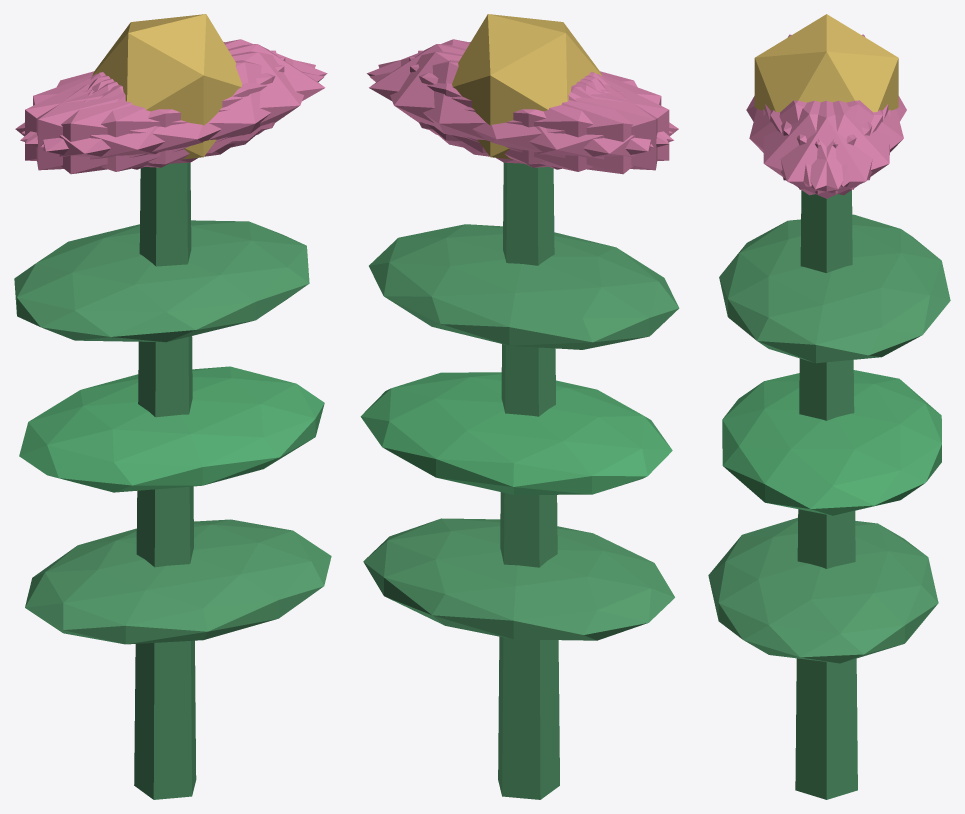
The model's file is alternanthera-halimifolia.glb.
3 renders of one model, left to right at view 1: azimuth 30°, elevation 25°; view 2: azimuth 150°, elevation 25°; view 3: azimuth 270°, elevation 25°, orthographic.
Parts seen in each view (by area): view 1: leaf0, leaf2, leaf1, stem, center, petal1, petal6, petal2, petal5, petal7, petal0, petal4 (+2 smaller); view 2: leaf2, leaf1, leaf0, stem, center, petal8, petal3, petal7, petal4, petal2, petal0, petal5 (+2 smaller); view 3: leaf2, leaf0, leaf1, stem, center, petal0, petal5, petal4, petal1, petal8.
Part boxes in pixels (bbox=[...]): leaf0: bbox=[25, 519, 331, 644]; leaf2: bbox=[14, 220, 309, 342]; leaf1: bbox=[19, 366, 324, 492]; stem: bbox=[134, 162, 196, 799]; center: bbox=[92, 14, 242, 159]; petal1: bbox=[20, 60, 324, 171]; petal6: bbox=[15, 73, 235, 174]; petal2: bbox=[36, 50, 276, 170]; petal5: bbox=[41, 51, 315, 164]; petal7: bbox=[25, 57, 285, 167]; petal0: bbox=[92, 44, 325, 153]; petal4: bbox=[21, 39, 327, 144]; leaf2: bbox=[369, 224, 679, 349]; leaf1: bbox=[360, 372, 672, 494]; leaf0: bbox=[363, 518, 674, 640]; stem: bbox=[498, 162, 559, 799]; center: bbox=[452, 14, 601, 159]; petal8: bbox=[369, 60, 673, 171]; petal3: bbox=[458, 73, 678, 174]; petal7: bbox=[418, 50, 657, 170]; petal4: bbox=[378, 51, 653, 164]; petal2: bbox=[409, 57, 669, 167]; petal0: bbox=[369, 44, 602, 153]; petal5: bbox=[367, 39, 672, 144]; leaf2: bbox=[719, 214, 950, 363]; leaf0: bbox=[708, 517, 938, 663]; leaf1: bbox=[722, 370, 941, 515]; stem: bbox=[795, 190, 857, 799]; center: bbox=[754, 14, 898, 112]; petal0: bbox=[765, 100, 888, 198]; petal5: bbox=[763, 100, 882, 195]; petal4: bbox=[770, 100, 890, 195]; petal1: bbox=[749, 100, 872, 186]; petal8: bbox=[781, 100, 903, 186].
Size of the model in its own units: 0.1452 by 0.3537 by 0.1031.
